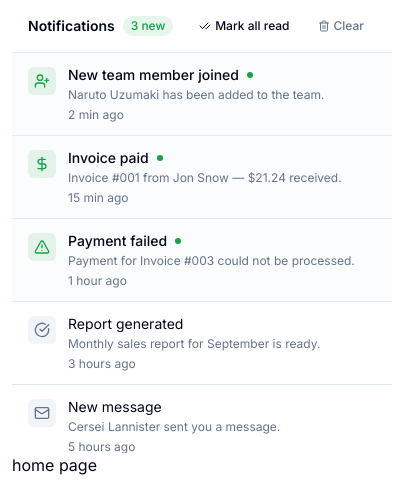
Test case: NotificationsPanel › marks every notification read from the header action
Click the button "Mark all read" at (244, 26), box [187,12,302,40]
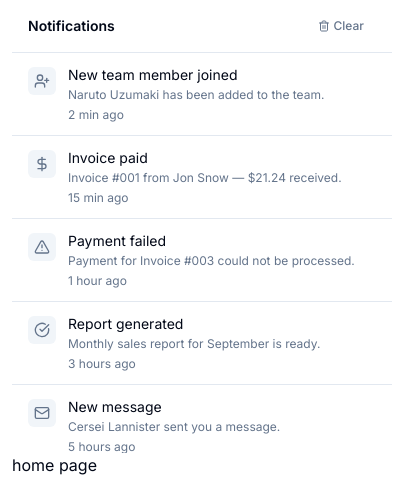
Expected: the button "Clear" is shown, [306,12,376,40]
Expected: the button "Mark all read" is gone
